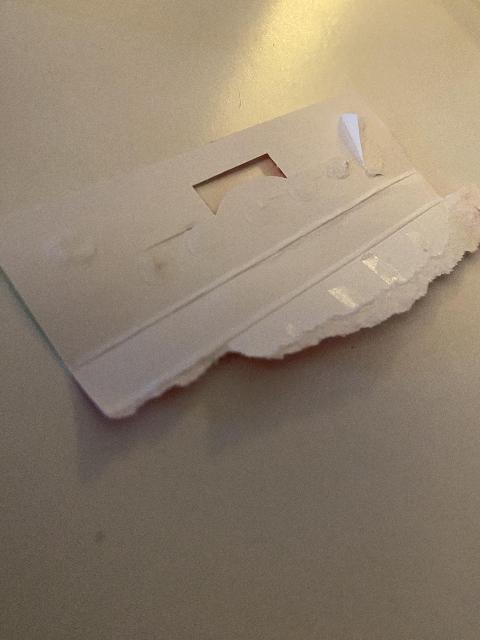Kagit: (0, 90, 480, 421)
